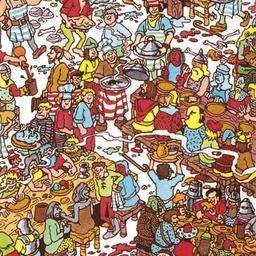waldo: (66, 64, 86, 88)
